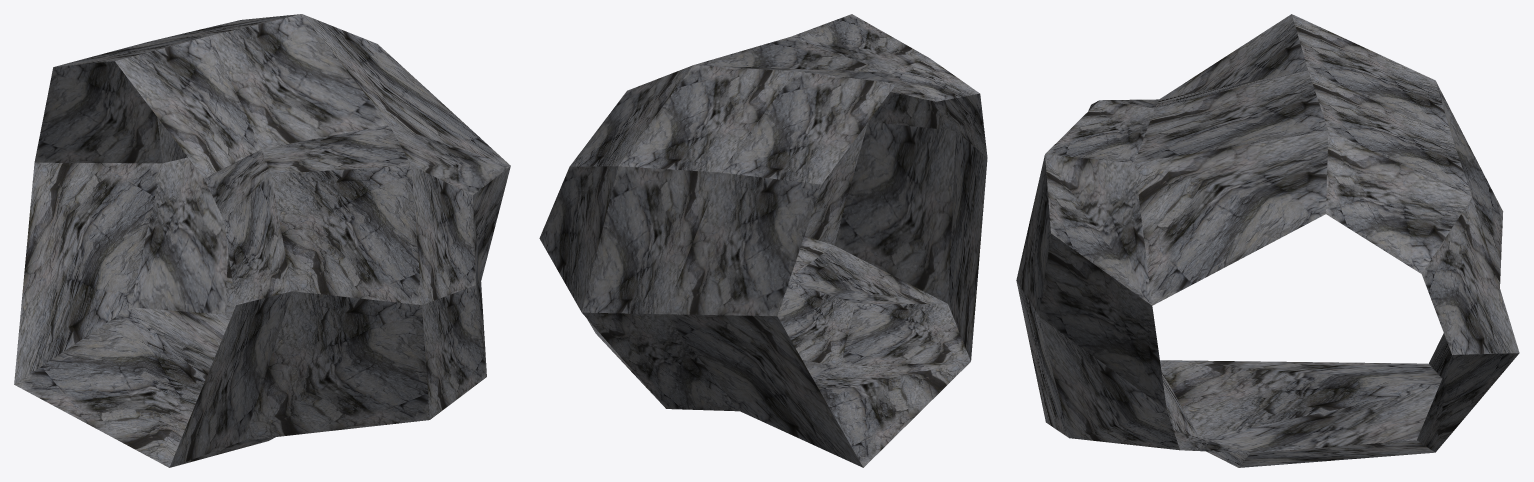
The model's file is cave.glb.
The picture shows the model from 3 angles, left to right: view 1: azimuth 30°, elevation 25°; view 2: azimuth 150°, elevation 25°; view 3: azimuth 270°, elevation 25°; orthographic projection. The views are drawn at different scales.
Parts seen in each view (by area): view 1: Plane; view 2: Plane; view 3: Plane.
Part boxes in pixels (<box>): Plane: <box>14,14,510,467</box>; Plane: <box>539,14,987,467</box>; Plane: <box>1016,14,1519,467</box>.
Size of the model in its own units: 7.03 by 6.98 by 8.57.
Materials: 1 (1 with a texture image).
